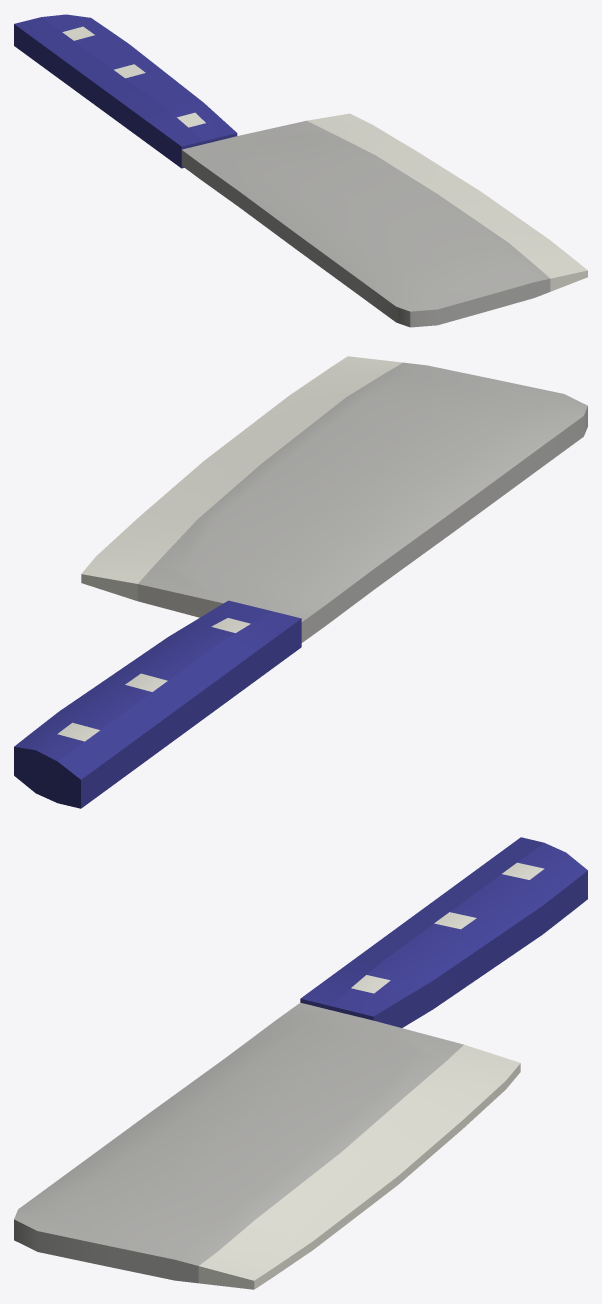
File: Cuchillo_Carne.fbx
3 views of the same model, one above another, from view 1: azimuth 30°, elevation 25°; view 2: azimuth 150°, elevation 25°; view 3: azimuth 330°, elevation 25° (orthographic). The views are drawn at different scales.
Parts seen in each view (by area): view 1: Cuchillo_Carne; view 2: Cuchillo_Carne; view 3: Cuchillo_Carne.
Part boxes in pixels (x1,y1,x2,y2): Cuchillo_Carne: (14,14,587,327); Cuchillo_Carne: (14,356,587,808); Cuchillo_Carne: (14,837,587,1289).
Bounding box in the file's own units: 1.28 × 0.2128 × 4.65.
